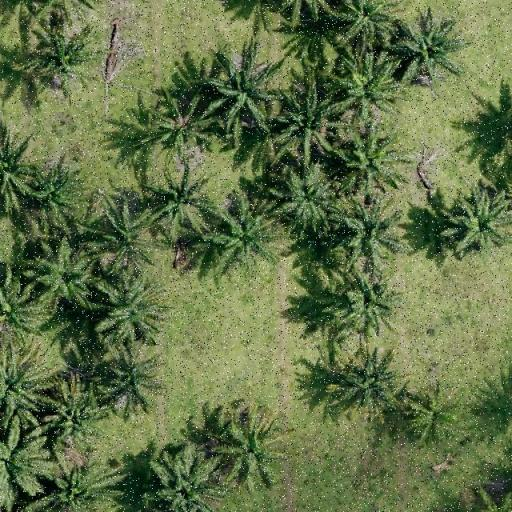Ganoderma: (414, 394, 456, 434)
